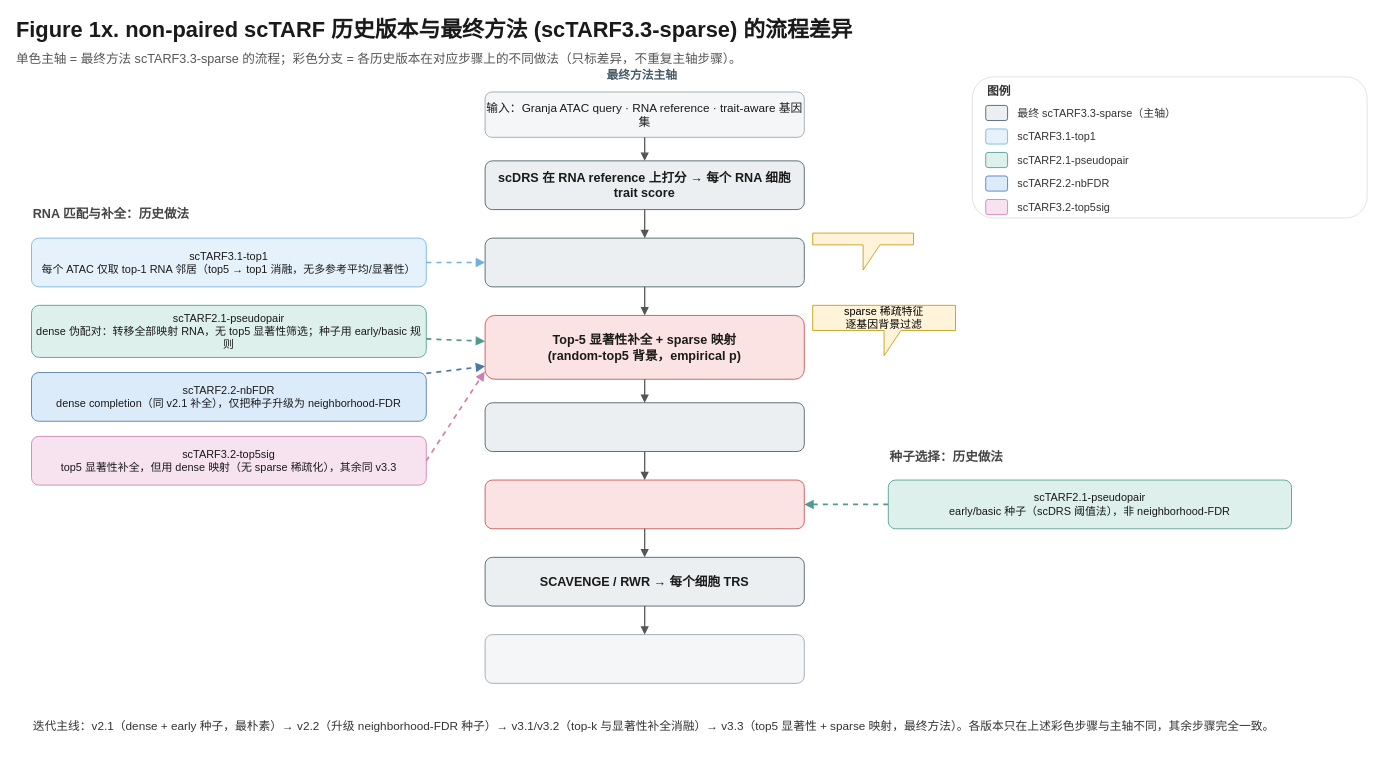
The diagram is 1382 pixels wide and 774 high, and some of its shapes have lost their labels. Here are the shapes that lost their labels. From the top down, the centre of each, then its label:
pixel 644 262: ATAC → RNA 匹配：每个 ATAC 细胞取 top-5 RNA 邻居
pixel 863 251: top-5 邻居
pixel 644 427: ATAC / RNA 加权融合向量 → fused KNN
pixel 644 504: Neighborhood-FDR 种子选择
pixel 644 658: 按 target cell type 评估 AUROC / ACC / F1
